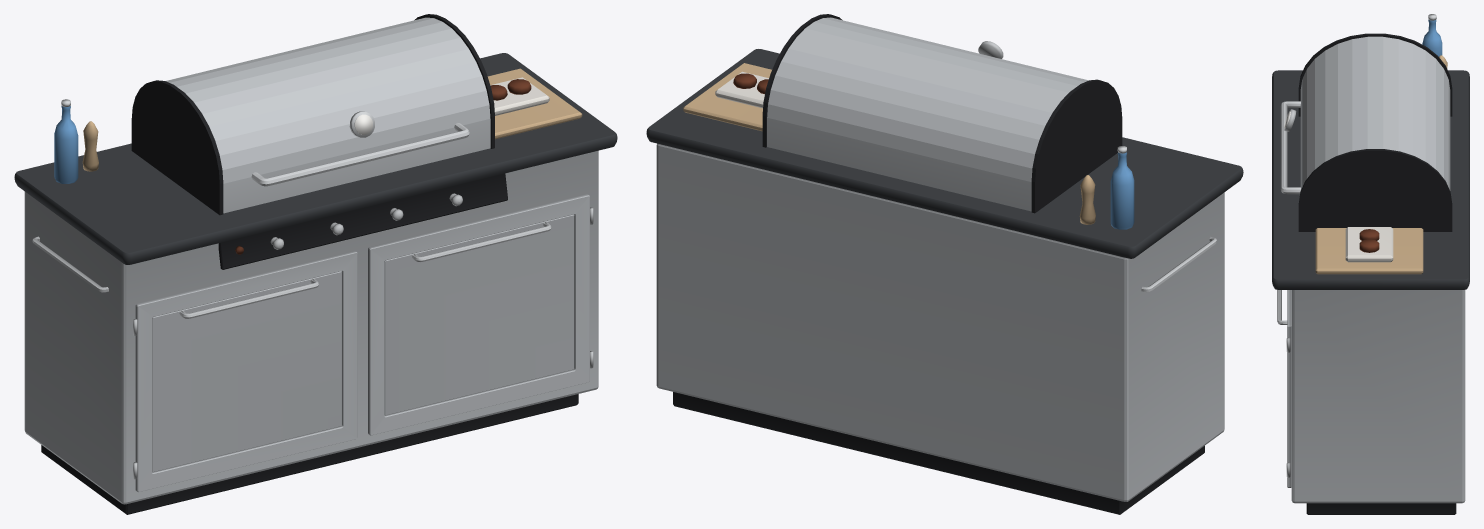
Rendered from grillStation.glb.
The picture shows the model from 3 angles, left to right: view 1: azimuth 30°, elevation 25°; view 2: azimuth 150°, elevation 25°; view 3: azimuth 270°, elevation 25°; orthographic projection. The views are drawn at different scales.
Parts seen in each view (by area): view 1: cart, hood; view 2: cart, hood; view 3: cart, hood.
Part boxes in pixels (box(x1,y1,x2,y2)): cart: box(14, 53, 617, 514); hood: box(131, 14, 494, 215); cart: box(646, 49, 1243, 514); hood: box(762, 14, 1122, 213); cart: box(1272, 14, 1469, 514); hood: box(1280, 33, 1452, 231).
Size of the model in its own units: 1.66 by 1.2 by 0.66.
